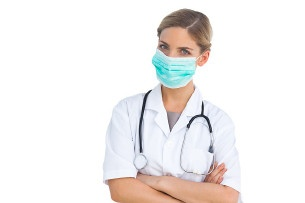Mask: (153, 39, 203, 89)
